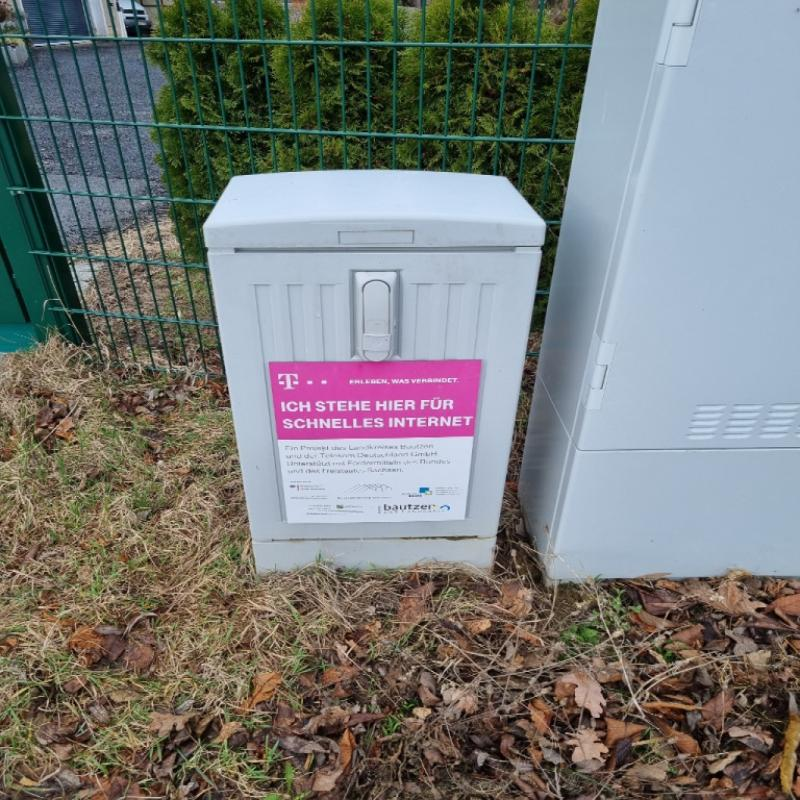NT-Gehause: (202, 174, 543, 575)
Steaker: (271, 363, 478, 522)
